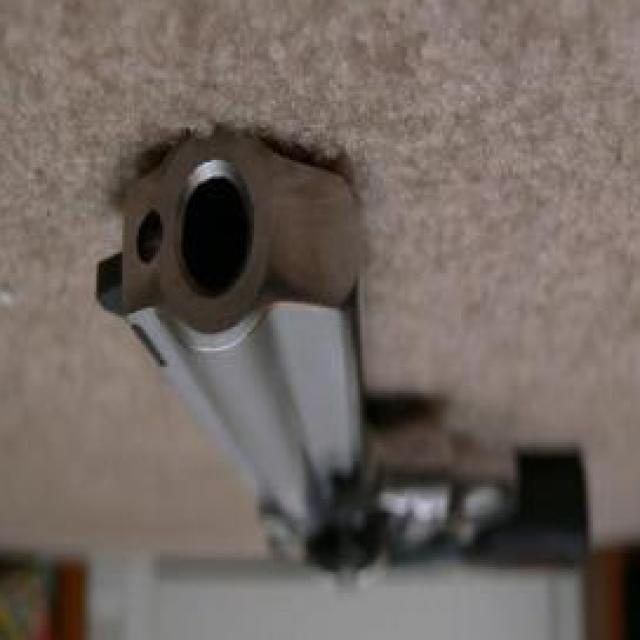pistol: (84, 148, 590, 581)
